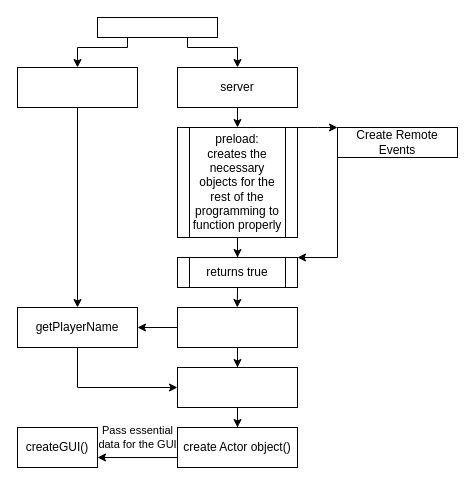
The diagram is 475 pixels wide and 485 high, and some of its shapes have lost their labels. Each missing label, with the centre of its shape:
client: the point at 77,87
getFromDataStore(): the point at 237,387
main: the point at 157,27
onPlayerJoin(): the point at 237,327
